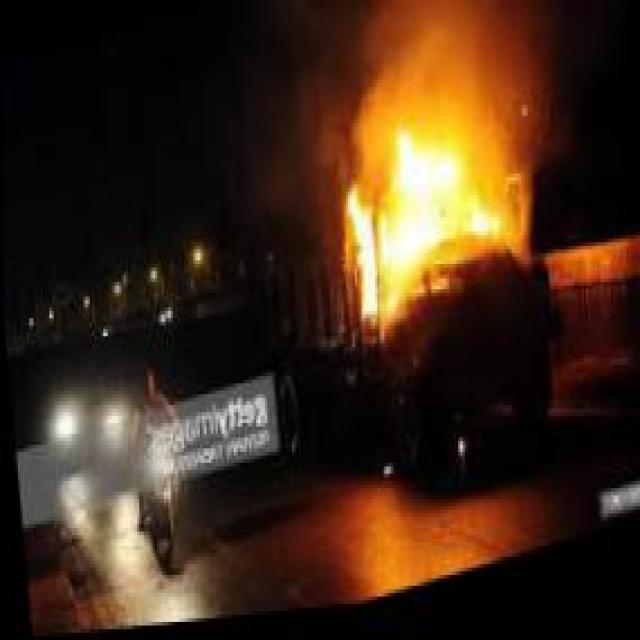Fire: (323, 54, 548, 362)
Smoke: (350, 0, 541, 43)
